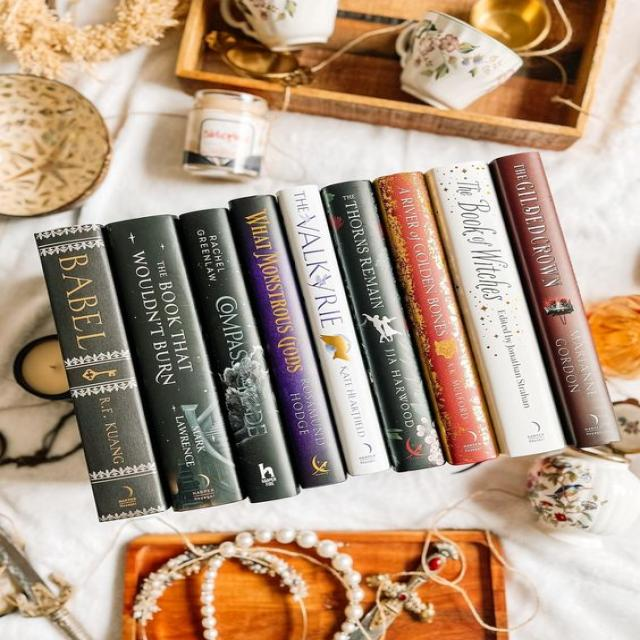book: (425, 160, 567, 457), (110, 215, 244, 514), (36, 222, 169, 522), (495, 150, 621, 448), (373, 170, 496, 467), (323, 179, 443, 473), (227, 195, 347, 488), (181, 206, 297, 504), (277, 182, 391, 475)
